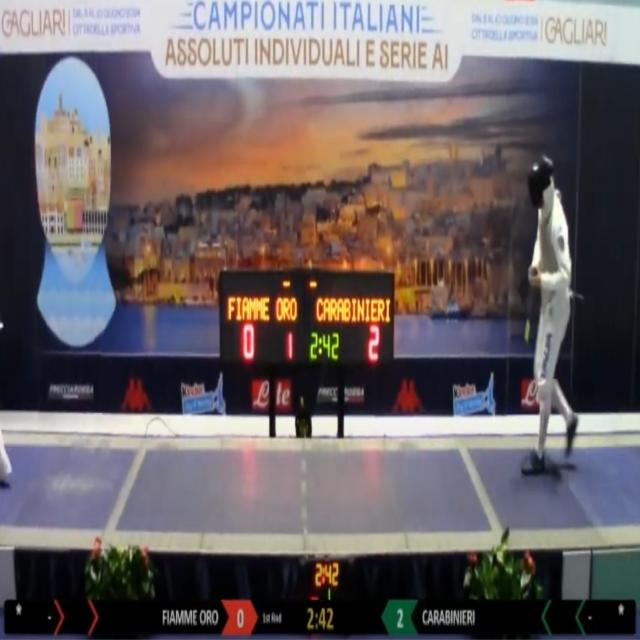fencer: (510, 157, 586, 493)
overlayLeft: (97, 601, 220, 634)
overlayRight: (421, 599, 540, 640)
scoreLeft: (221, 601, 258, 636)
scoreRight: (379, 600, 421, 640)
